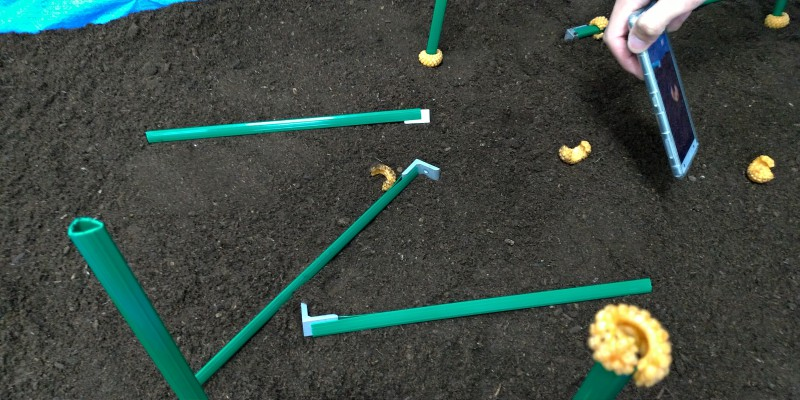eggs: (581, 292, 675, 388), (557, 131, 597, 172), (744, 150, 780, 190), (368, 158, 399, 193), (418, 42, 444, 71), (765, 8, 792, 32), (587, 13, 608, 41)
